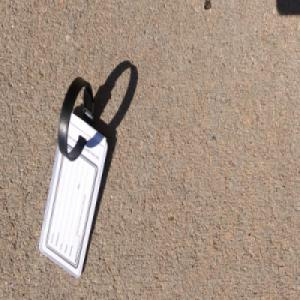LuggageTag: (38, 75, 109, 280)
